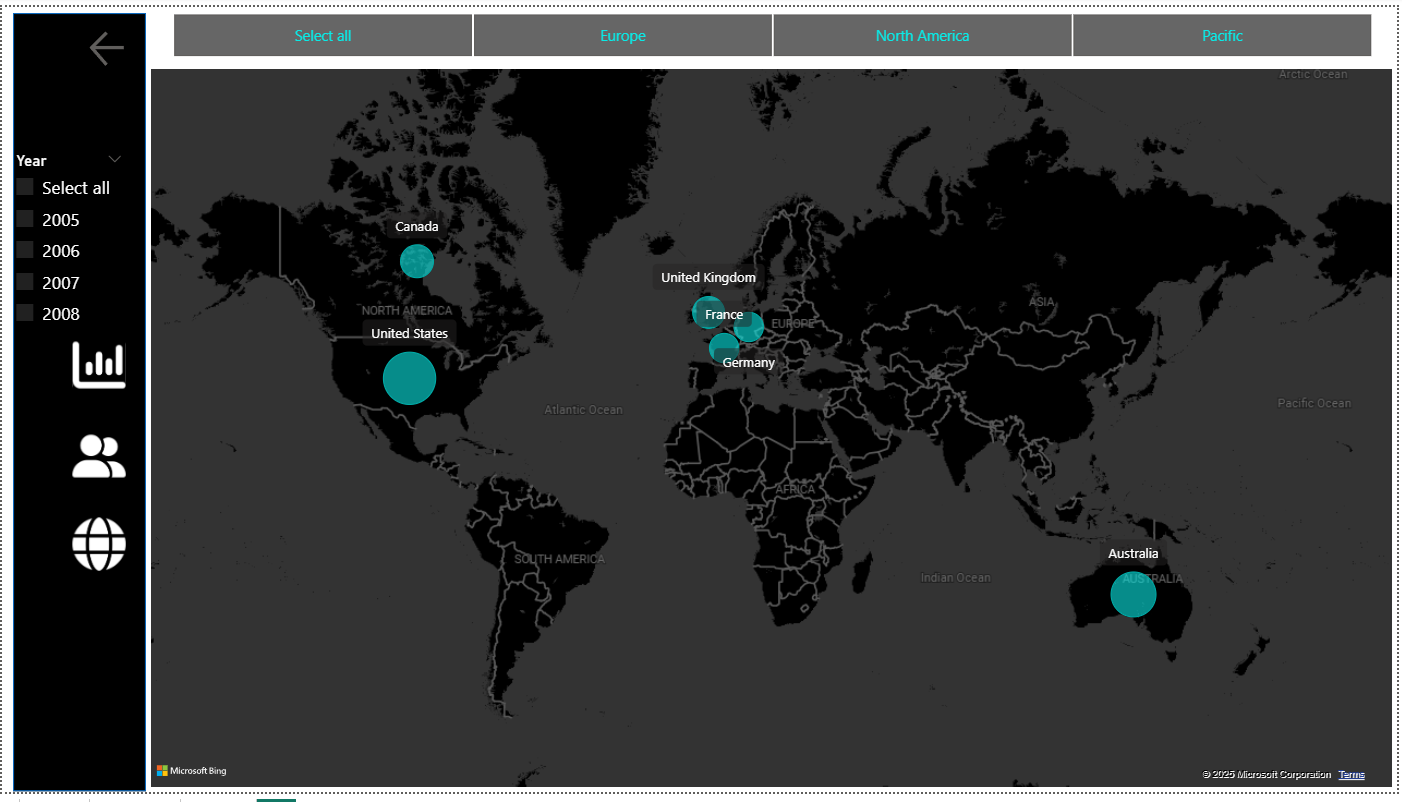

The dashboard page shown, as its layout file describes it:
{"tool":"powerbi","page":{"name":"Maps","canvas":[1280,720],"ordinal":1},"visuals":[{"type":"map","title":"Orders by Country","fields":{"Size":["Measure.Total Orders"],"Category":["SalesTerritory.SalesTerritoryCountry"]},"box":[132.2,52,1147.8,667.6],"z":0},{"type":"slicer","fields":{"Values":["SalesTerritory.SalesTerritoryGroup"]},"box":[132.4,0,1148,51.7],"z":1000},{"type":"actionButton","box":[60.3,300.3,60.3,57],"z":2000,"group":"g1"},{"type":"shape","box":[10,5.8,122.5,714.2],"z":2000},{"type":"actionButton","box":[60.3,464.7,60.3,57],"z":3000,"group":"g1"},{"type":"group","id":"g1","title":"Nav","box":[60.3,300.3,60.3,221.4],"z":3000},{"type":"actionButton","box":[60.3,383.6,60.3,57],"z":4000,"group":"g1"},{"type":"slicer","fields":{"Values":["Calender Lookup.Year"]},"box":[0,127.1,122.4,176.5],"z":4000},{"type":"actionButton","box":[76.2,17.2,46.2,41.7],"z":5000}]}

Visuals, with their boxes in screenshot pixels (x1, y1, x2, y2):
"Orders by Country" map: rect(147, 63, 1386, 785)
slicer - SalesTerritory.SalesTerritoryGroup: rect(147, 7, 1387, 63)
actionButton: rect(69, 332, 134, 393)
shape: rect(15, 14, 147, 785)
actionButton: rect(69, 509, 134, 571)
"Nav" group: rect(69, 332, 134, 571)
actionButton: rect(69, 422, 134, 483)
slicer - Calender Lookup.Year: rect(4, 145, 136, 335)
actionButton: rect(86, 26, 136, 71)
